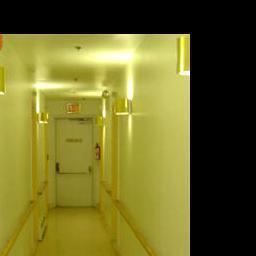Puerta: (55, 116, 95, 208)
